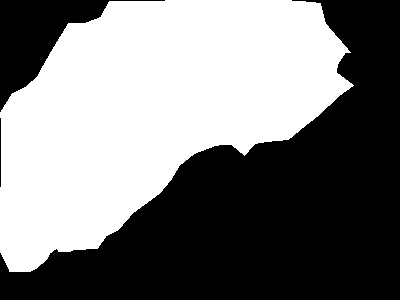Fire: (2, 1, 240, 265)
